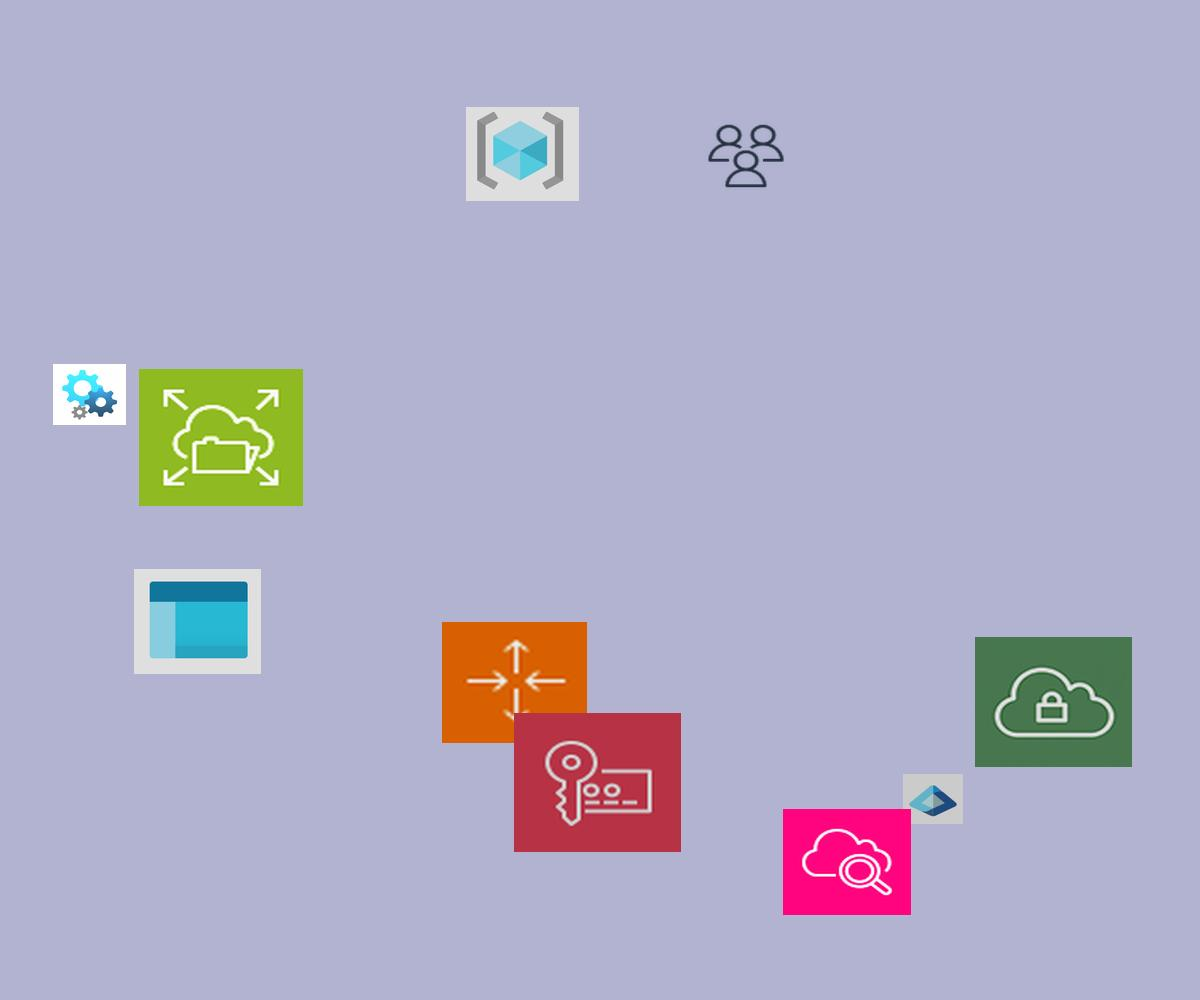AWS-CloudWatch: (783, 809, 911, 915)
AWS-EFS: (139, 369, 303, 506)
AWS-Key-Management-Service: (514, 713, 681, 852)
AWS-Private_vpc: (975, 637, 1132, 767)
AWS-Res_Users: (705, 122, 787, 190)
AWS-Scaling-group: (442, 622, 587, 743)
Azure_api: (53, 364, 126, 425)
Azure_management-portal: (134, 569, 261, 674)
Azure_microsoft_entra: (903, 774, 963, 824)
Azure_resource_group: (466, 107, 579, 201)
